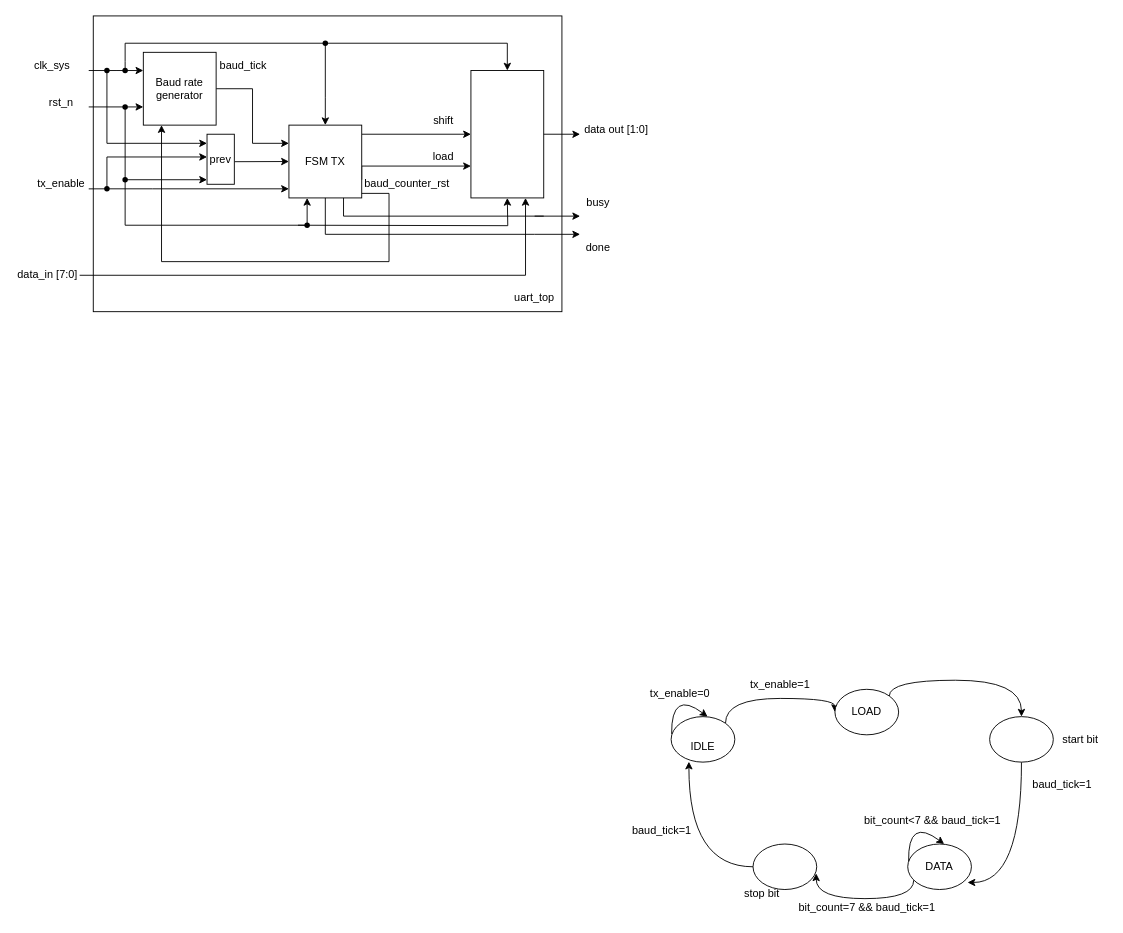
The diagram is 1123 pixels wide and 933 high, and some of its shapes have lost their labels. The centre of each missing label's shape, as x and y in pixels:
PISO register: pixel 507 134
START: pixel 1021 739
STOP: pixel 784 866
